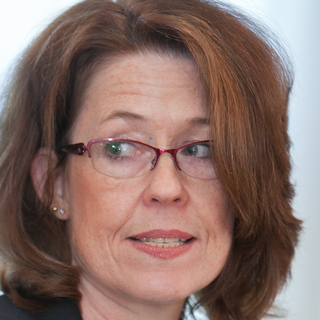eye: (96, 139, 149, 161), (174, 136, 215, 162)
